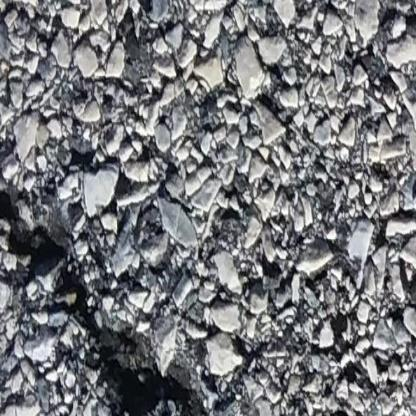Cracks: (0, 191, 227, 416), (311, 411, 366, 416)
